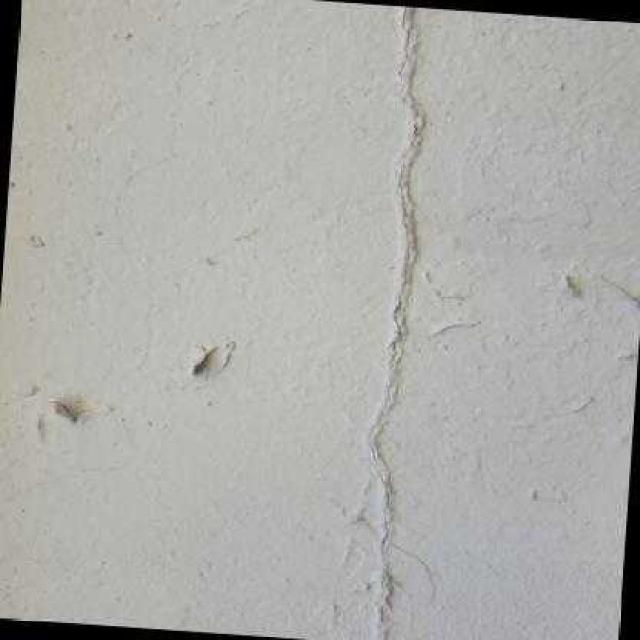D00: (364, 5, 425, 640)
